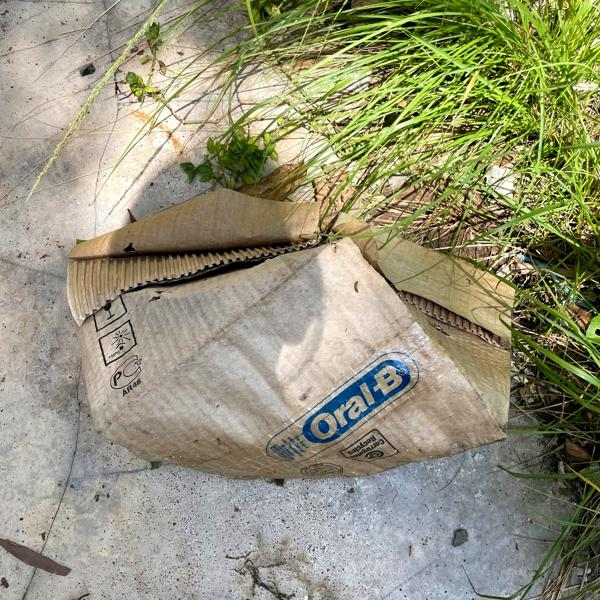Organik: (47, 181, 546, 499)
